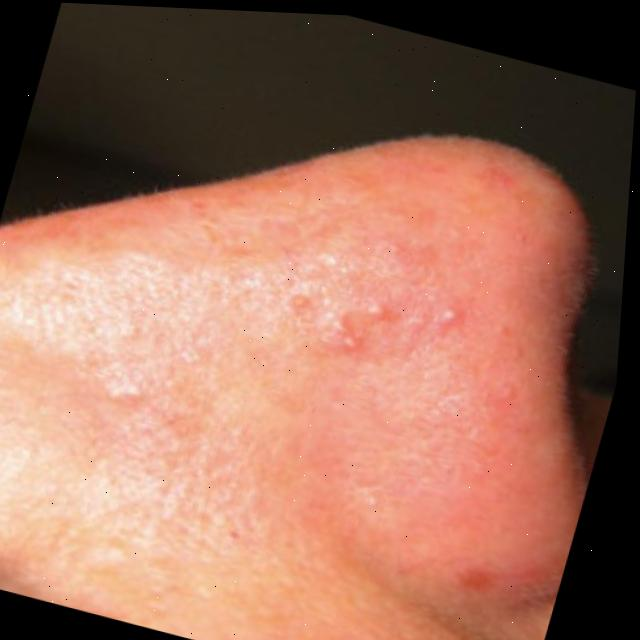Rosacea: (140, 151, 595, 591)
